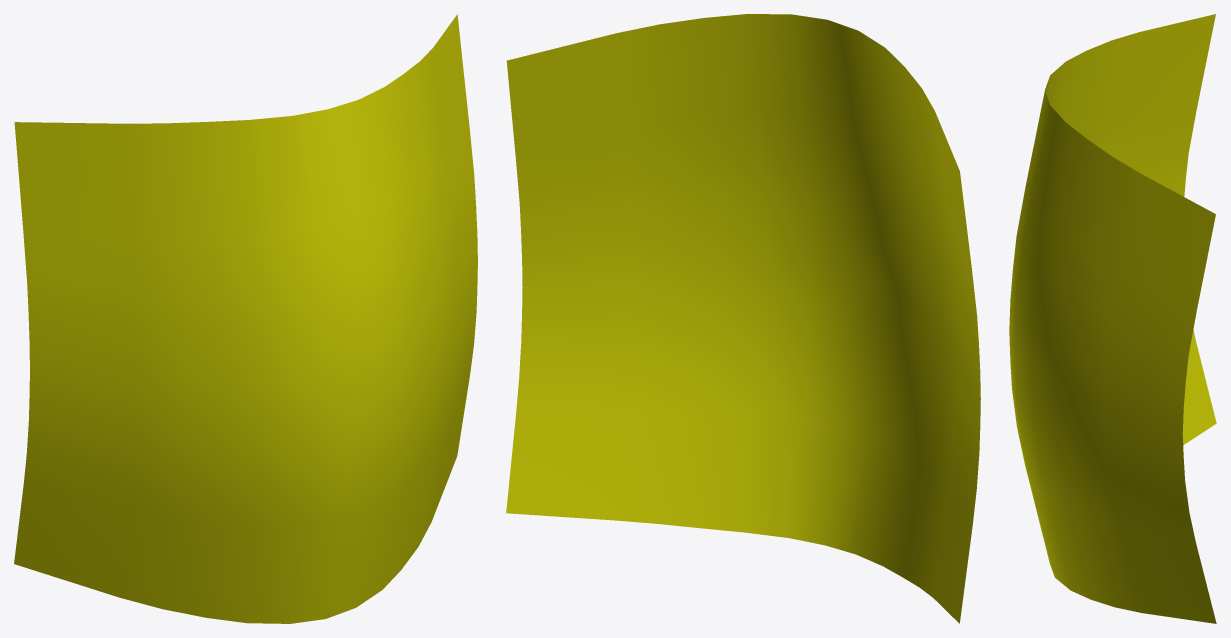
Rendered from Mask_6.glb.
3 views of the same model, side by side, from view 1: azimuth 30°, elevation 25°; view 2: azimuth 150°, elevation 25°; view 3: azimuth 270°, elevation 25° (orthographic). The views are drawn at different scales.
Size of the model in its own units: 91.85 by 100 by 39.75.
